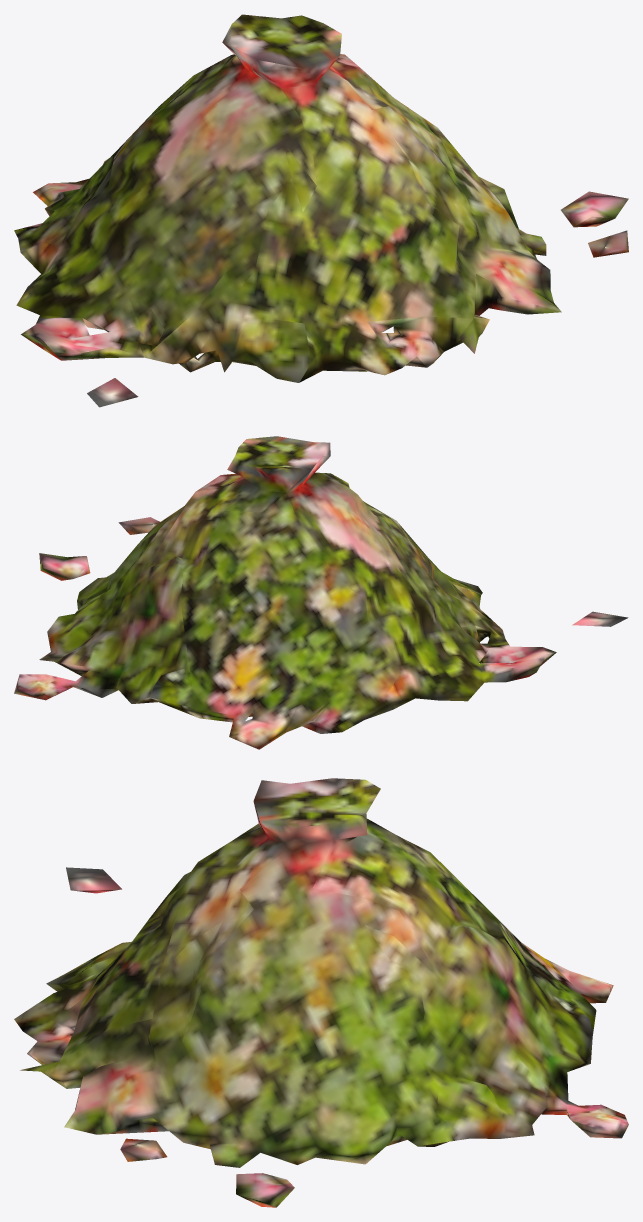
The model's file is SpringDecor_BossRoom_FlowerMound.fbx.
3 renders of one model, top to bottom at view 1: azimuth 30°, elevation 25°; view 2: azimuth 150°, elevation 25°; view 3: azimuth 270°, elevation 25°, orthographic. The views are drawn at different scales.
Visible parts, largest first — view 1: SpringDecor_BossRoom_FlowerMound_Mesh; view 2: SpringDecor_BossRoom_FlowerMound_Mesh; view 3: SpringDecor_BossRoom_FlowerMound_Mesh.
Boxes of the visible parts, x1,y1,x2,y2 form: SpringDecor_BossRoom_FlowerMound_Mesh: (14, 14, 628, 407); SpringDecor_BossRoom_FlowerMound_Mesh: (14, 436, 628, 749); SpringDecor_BossRoom_FlowerMound_Mesh: (14, 778, 628, 1207).
Bounding box in the file's own units: 6 × 2.26 × 4.81.
Materials: 1 (1 with a texture image).
